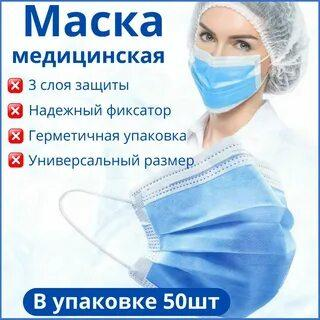hairnet: (195, 0, 320, 86)
mask: (144, 145, 320, 316), (189, 43, 258, 122)
